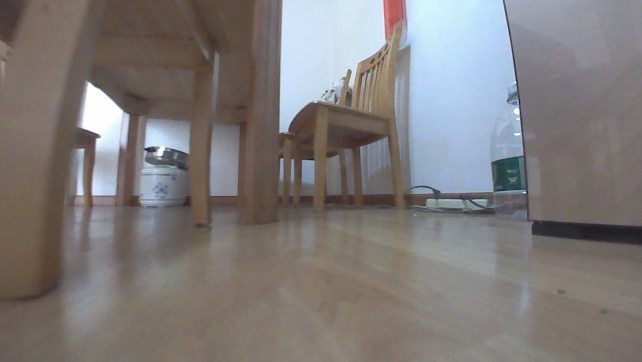dining_table: (0, 0, 405, 303)
wire: (400, 182, 440, 205), (454, 191, 493, 210)
